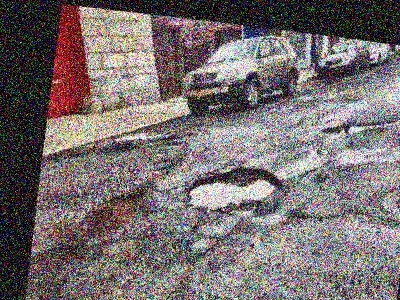pothole: (185, 157, 286, 222), (77, 228, 148, 268), (137, 125, 195, 153), (321, 118, 367, 141)
